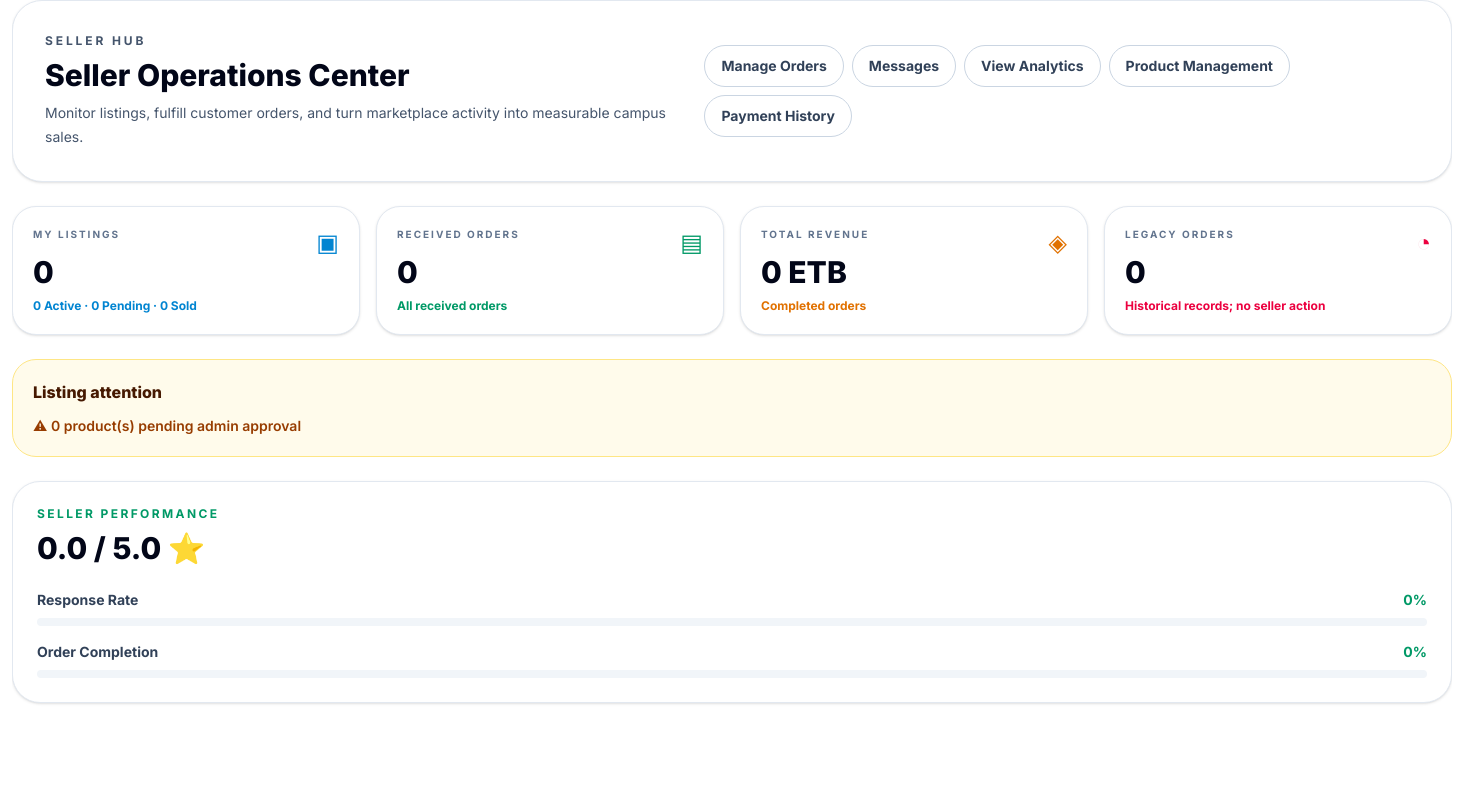
Test: SellerOperationsCenter overview metrics › opens inventory and smoothly scrolls to My Products
Click the button titled "View your listings".
click(77, 234)  # box [12,206,360,335]
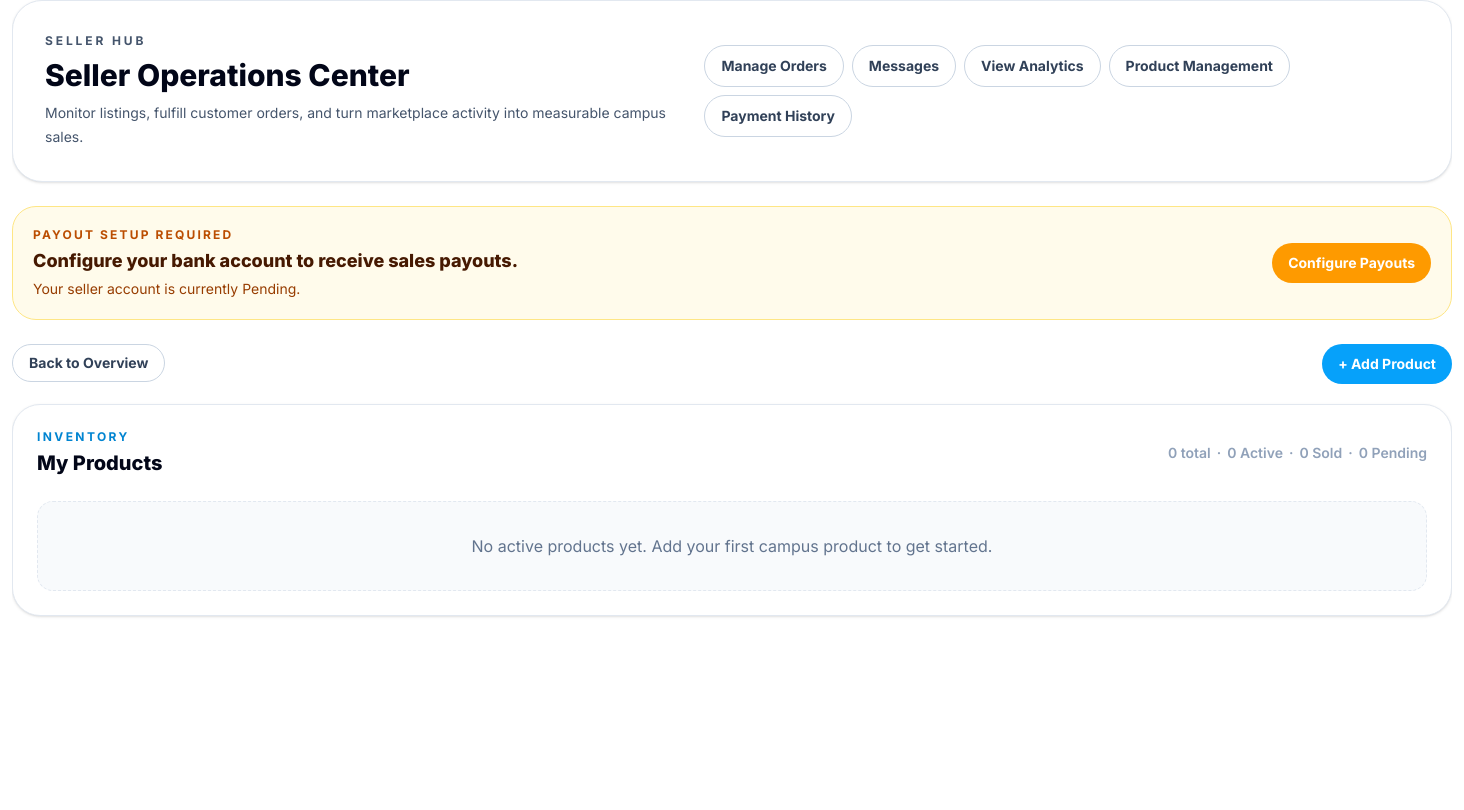
Now the heading "My Products" is shown, box [37,449,162,477]
